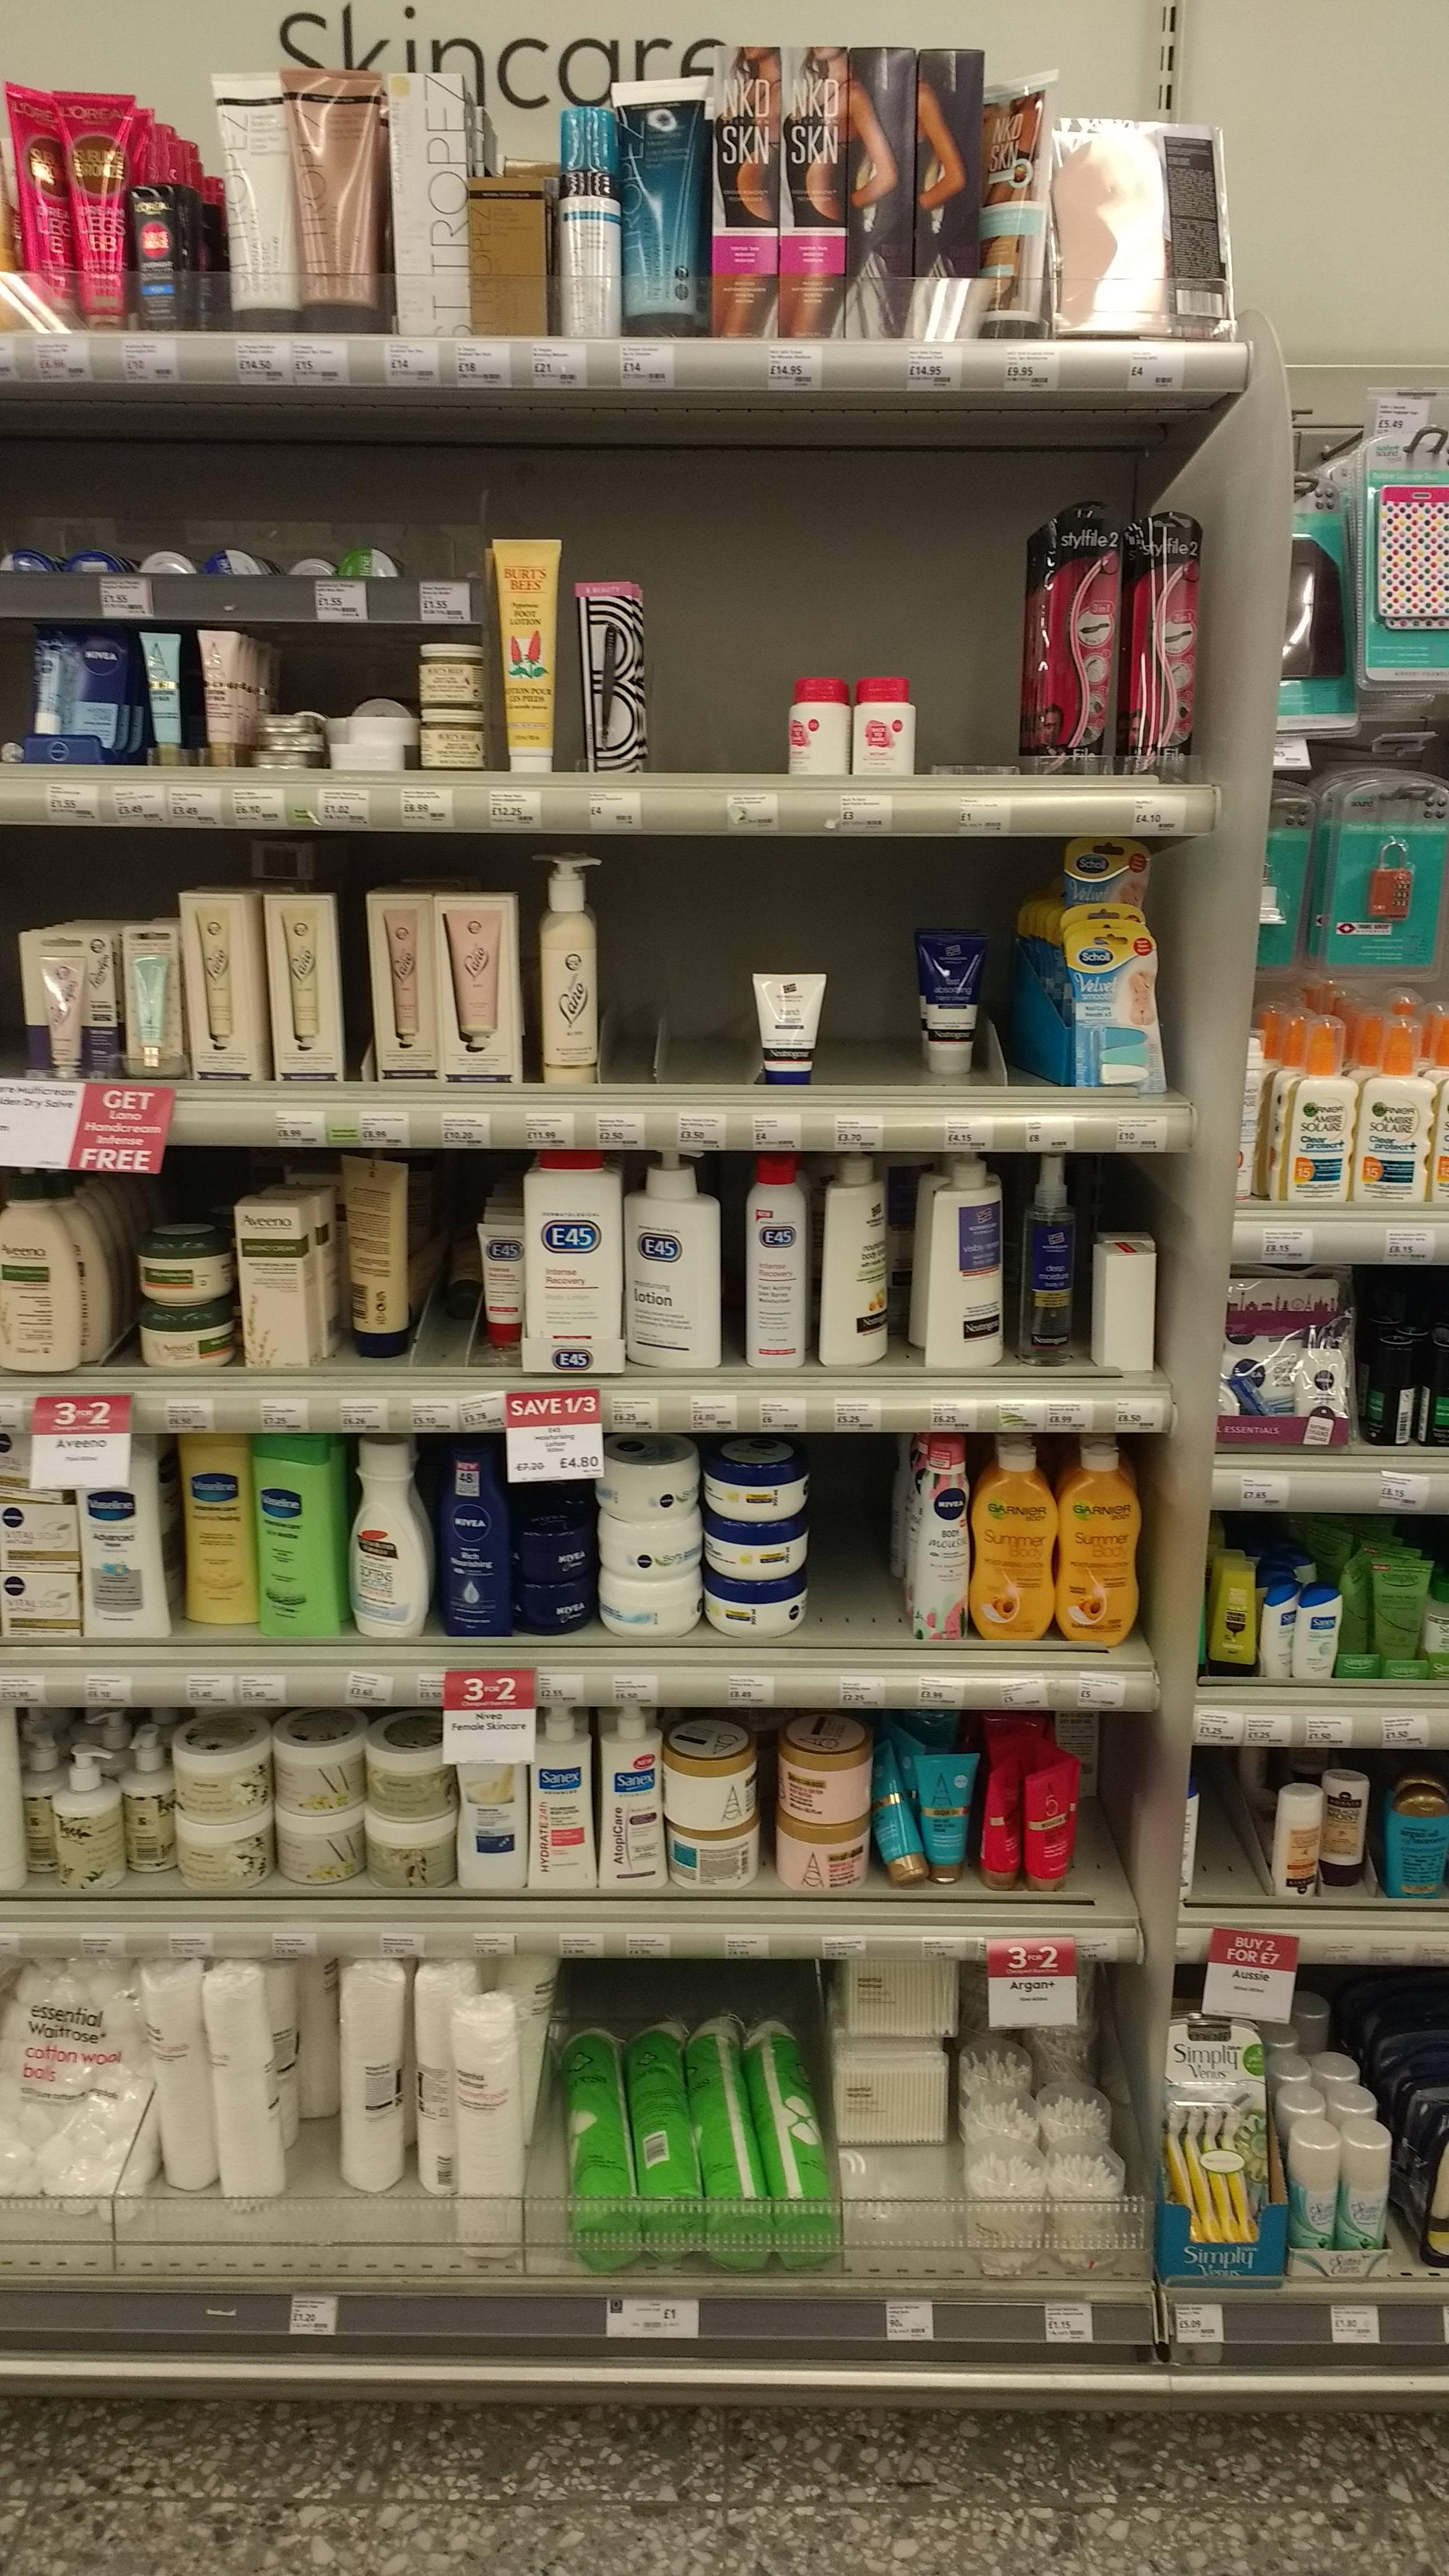misalignment: (819, 1164, 893, 1362), (343, 1157, 407, 1361), (869, 1744, 922, 1893), (978, 1764, 1023, 1886), (1180, 1782, 1212, 1904)
